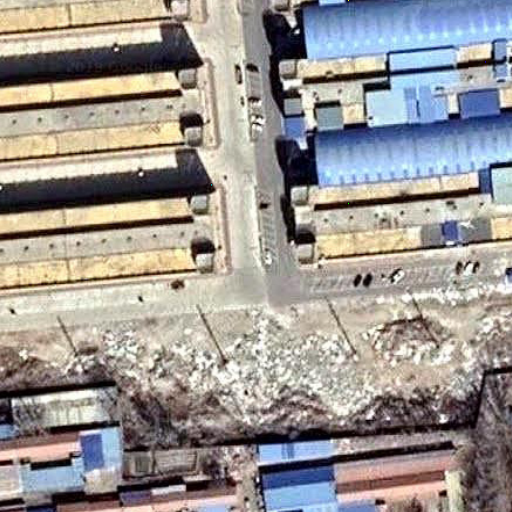msw: (93, 302, 512, 430)
